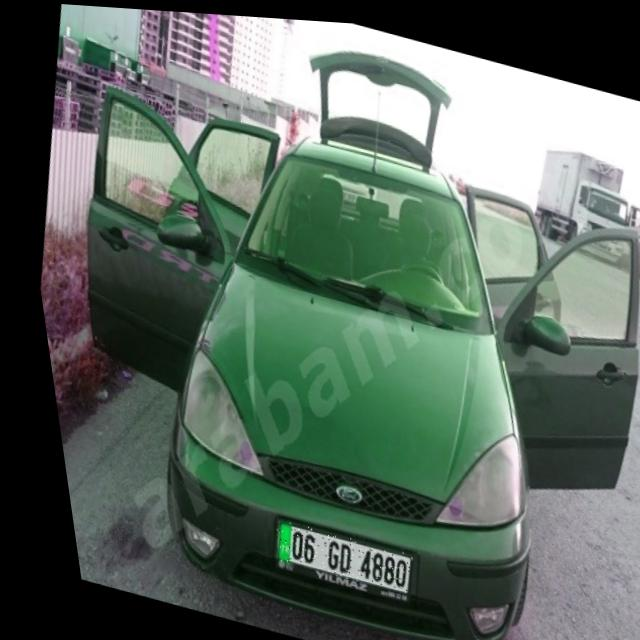license_plate: (253, 515, 401, 591)
